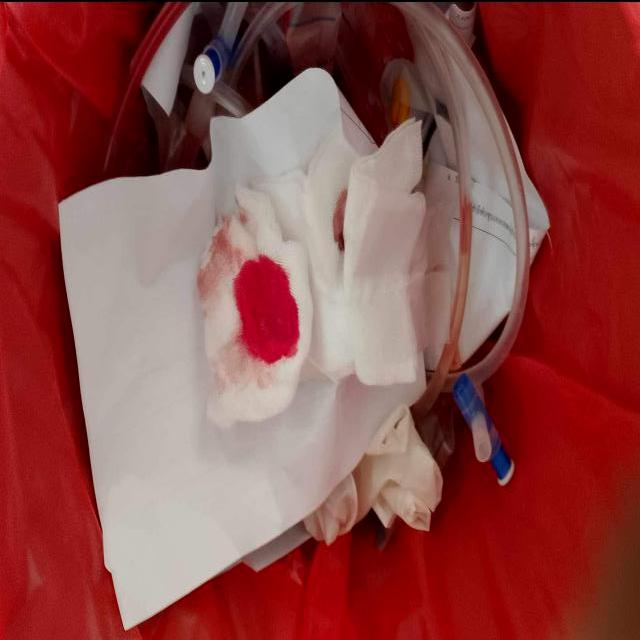General: (55, 2, 550, 629)
Infectious: (194, 179, 314, 427)
Sharps: (450, 370, 516, 485), (191, 0, 249, 94)
